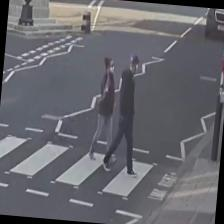person: (102, 52, 148, 177), (87, 55, 125, 164)
